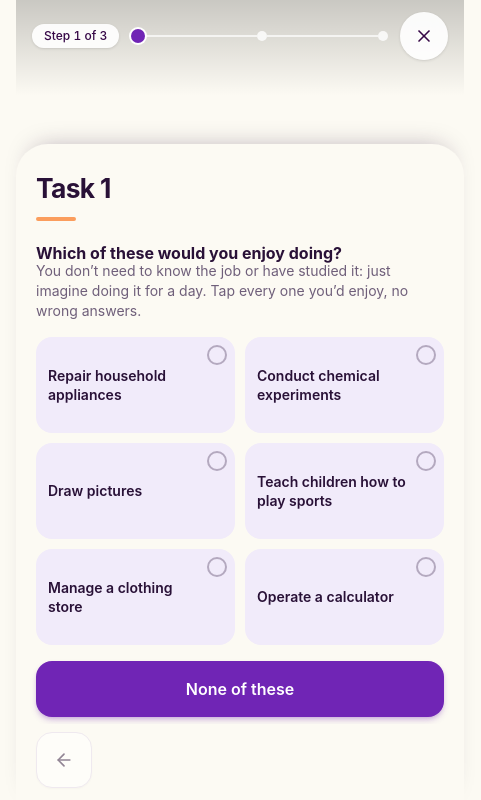
Discover as a checklist › asks a task in three screens and saves every card of the grid at once (tapped 5, the rest 1)
Click the button with test id "grid-card".
click(136, 385)  # box [36,337,235,433]
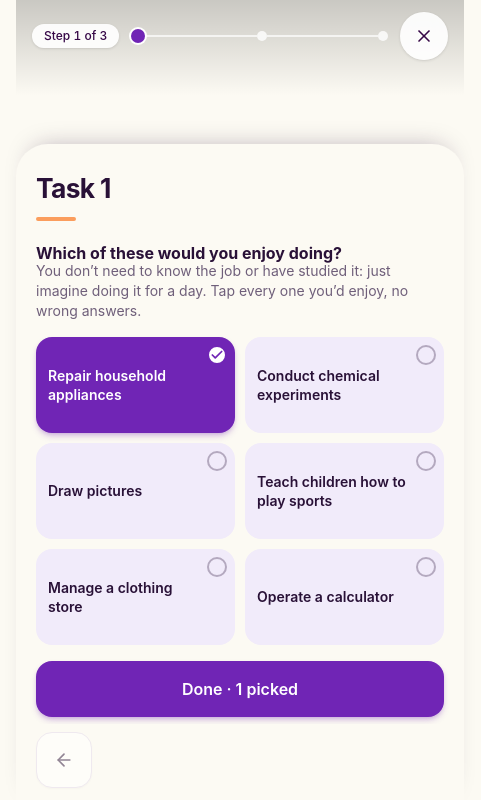
Click the button with test id "grid-card".
click(344, 491)  # box [245,443,444,539]
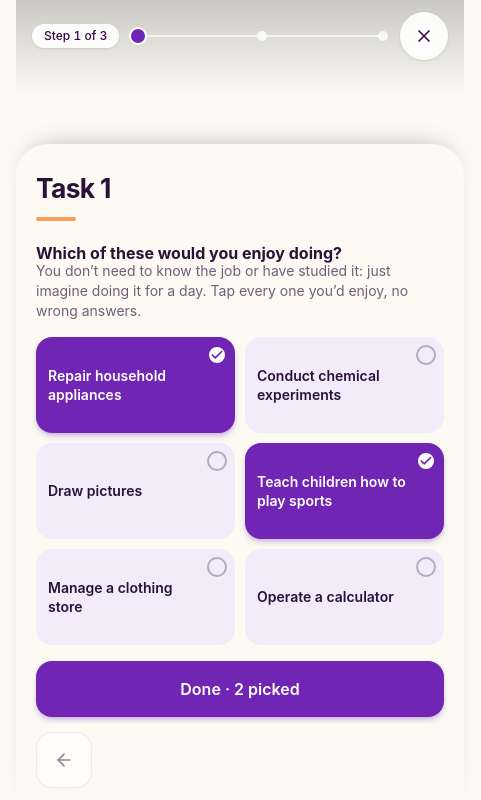
Click the button with test id "grid-done".
click(240, 689)  # box [36,661,444,717]
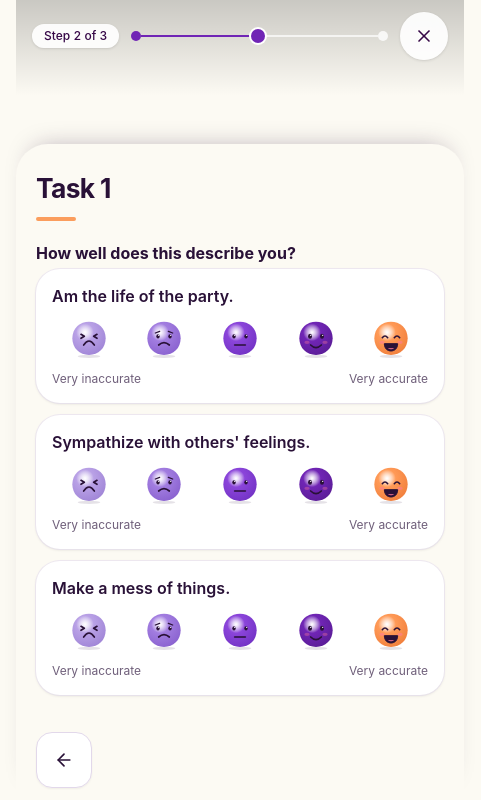
Check: the element with test id "q-stack" is shown, box [36,241,444,695]
Check: the number of elements with test id "stack-part" is 3, box [36,269,444,403]; [36,415,444,549]; [36,561,444,695]
